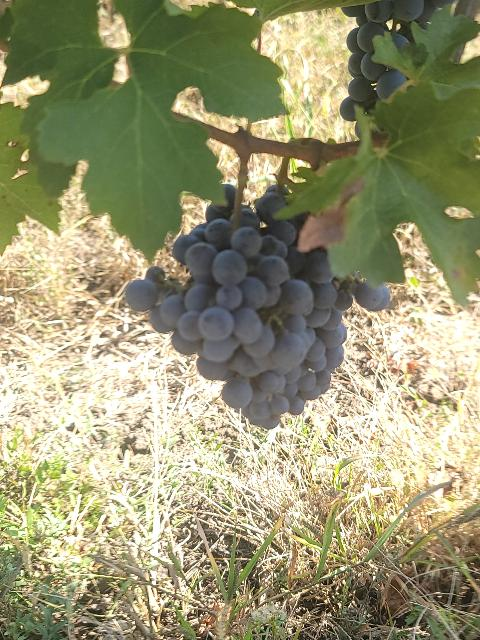grapes: (125, 185, 336, 429), (255, 191, 390, 372)
